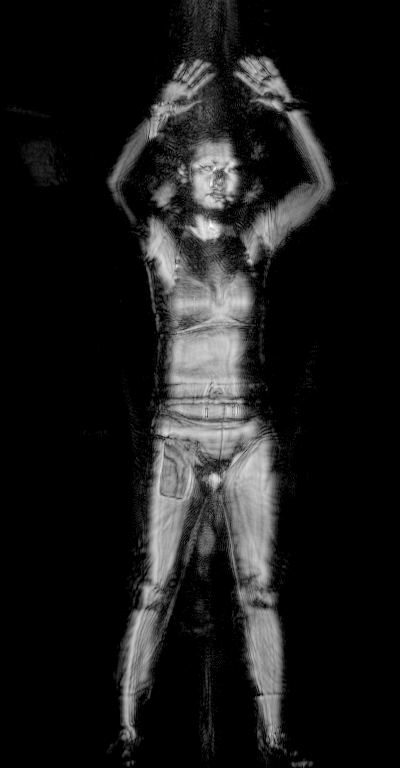head: (175, 135, 250, 227)
others: (154, 434, 197, 501), (141, 102, 169, 141)
person: (105, 52, 335, 768)
